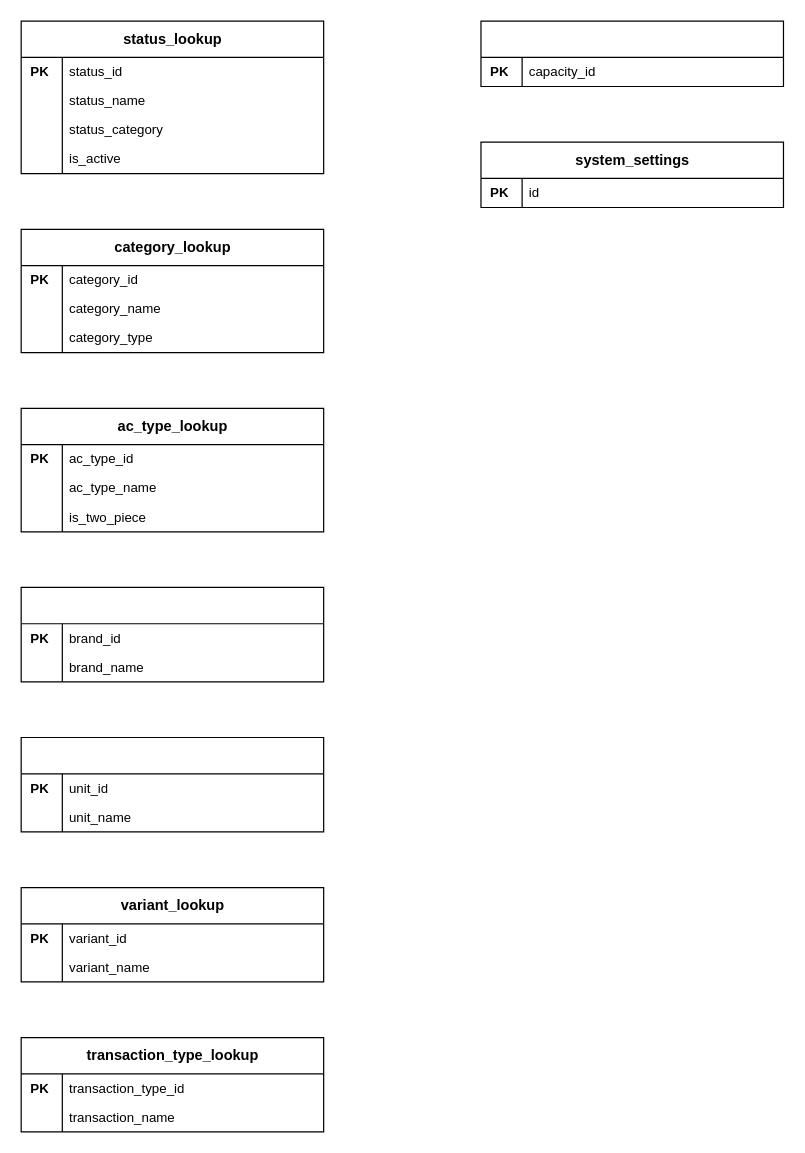
The diagram is 805 pixels wide and 1153 high, and some of its shapes have lost their labels. The box of each missing label's shape, as (x1, y1, x2, y2) in pixels:
brand_lookup: (20, 586, 324, 682)
capacity_lookup: (480, 20, 783, 87)
unit_lookup: (20, 736, 324, 832)
